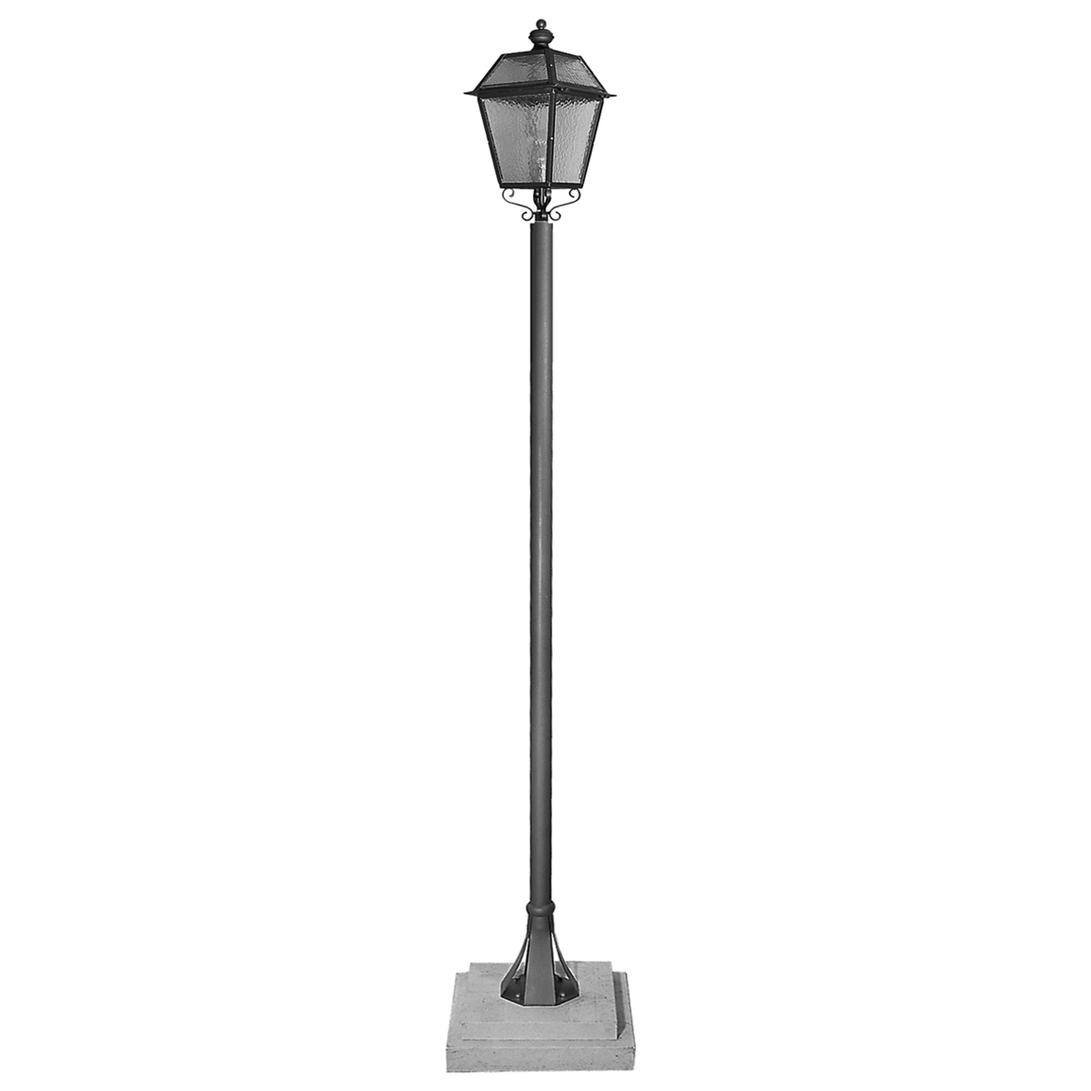Lamp: (439, 10, 674, 1072)
